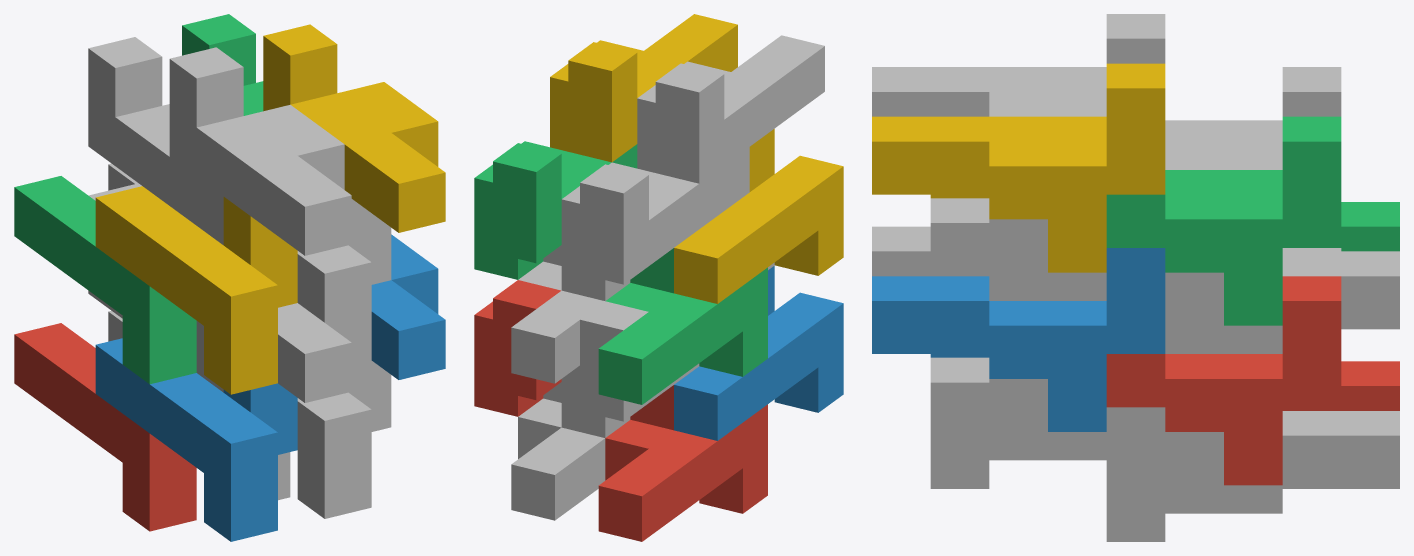
File: tiling.obj
3 views of the same model, side by side, from view 1: azimuth 30°, elevation 25°; view 2: azimuth 150°, elevation 25°; view 3: azimuth 270°, elevation 25° (orthographic). The views are drawn at different scales.
Parts seen in each view (by area): view 1: copy_1_domain_4, copy_2_domain_4, copy_1_domain_2, copy_2_domain_8, copy_1_domain_3, copy_1_domain_1, copy_2_domain_3, copy_1_domain_6, copy_1_domain_8, copy_2_domain_6, copy_2_domain_2, copy_2_domain_7 (+2 smaller); view 2: copy_2_domain_4, copy_1_domain_4, copy_1_domain_1, copy_2_domain_3, copy_1_domain_3, copy_1_domain_2, copy_2_domain_8, copy_2_domain_7, copy_1_domain_5, copy_2_domain_5, copy_1_domain_7, copy_2_domain_1; view 3: copy_2_domain_8, copy_2_domain_6, copy_2_domain_7, copy_2_domain_5, copy_1_domain_5, copy_1_domain_6, copy_2_domain_4, copy_1_domain_7, copy_1_domain_8, copy_2_domain_3, copy_1_domain_1, copy_2_domain_2 (+1 smaller).
Boxes of the visible parts, x1,y1,x2,y2 form: copy_1_domain_4: (95,186,297,394); copy_2_domain_4: (169,47,351,255); copy_1_domain_2: (95,338,297,541); copy_2_domain_8: (263,24,445,232); copy_1_domain_3: (14,176,196,384); copy_1_domain_1: (14,323,196,531); copy_2_domain_3: (88,37,223,244); copy_1_domain_6: (297,360,391,518); copy_1_domain_8: (297,199,391,364); copy_2_domain_6: (371,234,445,379); copy_2_domain_2: (196,303,351,402); copy_2_domain_7: (182,14,263,115); copy_2_domain_4: (637,35,824,183); copy_1_domain_4: (674,129,843,303); copy_1_domain_1: (598,385,767,541); copy_2_domain_3: (561,147,749,300); copy_1_domain_3: (598,248,767,404); copy_1_domain_2: (674,266,843,440); copy_2_domain_8: (550,14,737,162); copy_2_domain_7: (474,141,637,279); copy_1_domain_5: (511,382,605,520); copy_2_domain_5: (474,280,561,416); copy_1_domain_7: (511,245,604,383); copy_2_domain_1: (561,301,699,437); copy_2_domain_8: (872,63,1165,272); copy_2_domain_6: (872,248,1165,431); copy_2_domain_7: (1106,116,1341,325); copy_2_domain_5: (1106,276,1341,485); copy_1_domain_5: (1106,411,1399,541); copy_1_domain_6: (930,357,1165,488); copy_2_domain_4: (872,14,1165,116); copy_1_domain_7: (1165,251,1399,353); copy_1_domain_8: (930,198,1106,300); copy_2_domain_3: (1165,67,1341,169); copy_1_domain_1: (1282,361,1399,410); copy_2_domain_2: (872,226,930,276).
Bounding box in the file's own units: 5 × 9 × 9.
